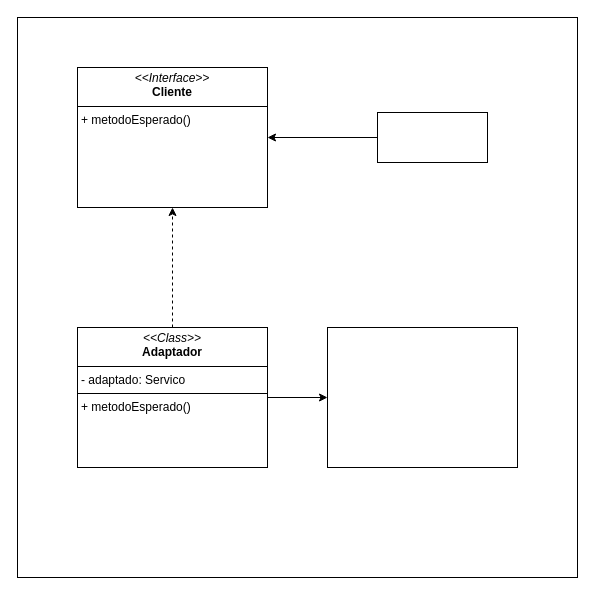
This 595x595 diagram has some shape labels left out. Here are the shapes that lost their labels. From the top down, the centre of each, then its label:
At point (432, 137): "Cliente".
At point (422, 397): "<<Class>> Servico + metodoDoServico()".
